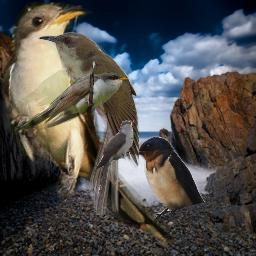Cuckoo: (2, 2, 176, 253), (38, 31, 139, 215), (12, 70, 128, 131), (95, 120, 134, 194)
Swallow: (132, 136, 206, 220)
